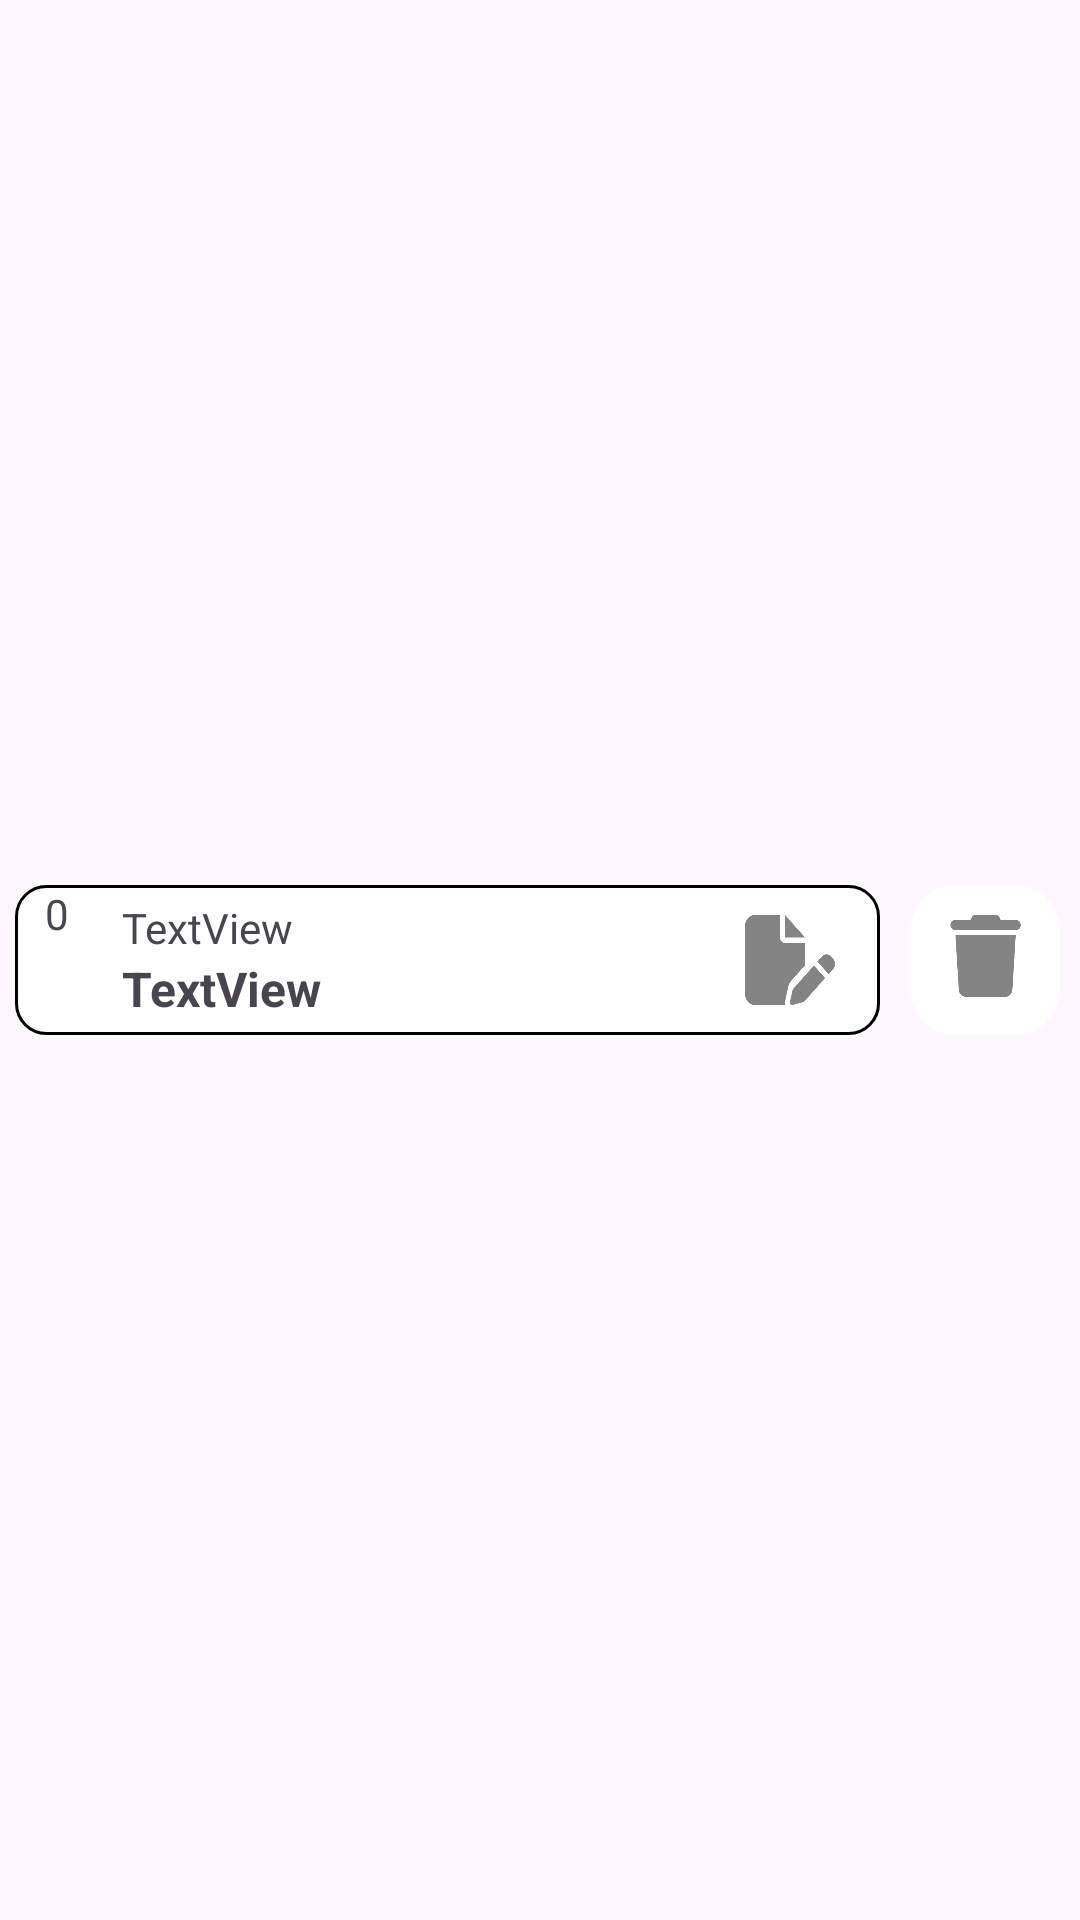

Icons on this 1080px×1920px Android screen, each with the point to tap as [x,y]:
trash: [985,956]
